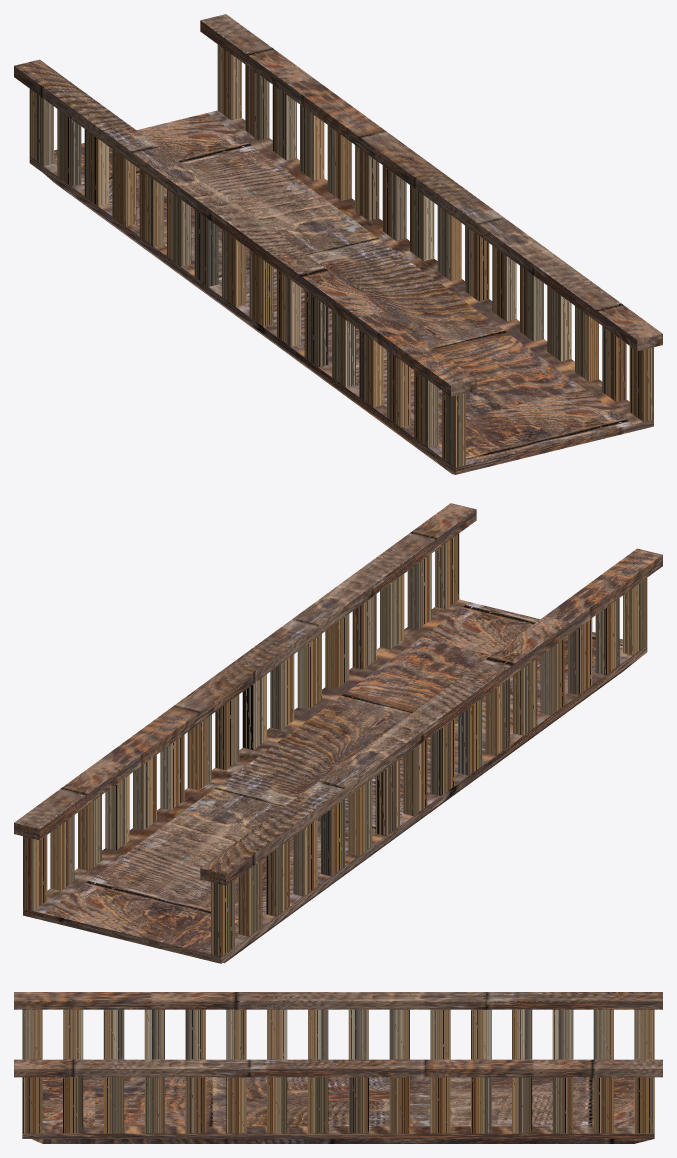
The model's file is Bridge.fbx.
3 views of the same model, one above another, from view 1: azimuth 30°, elevation 25°; view 2: azimuth 150°, elevation 25°; view 3: azimuth 270°, elevation 25° (orthographic). The views are drawn at different scales.
Parts seen in each view (by area): view 1: Bridge; view 2: Bridge; view 3: Bridge.
Part boxes in pixels (<box>): Bridge: <box>14,14,662,474</box>; Bridge: <box>14,503,662,963</box>; Bridge: <box>14,992,662,1143</box>.
Size of the model in its own units: 214 by 104 by 763.
